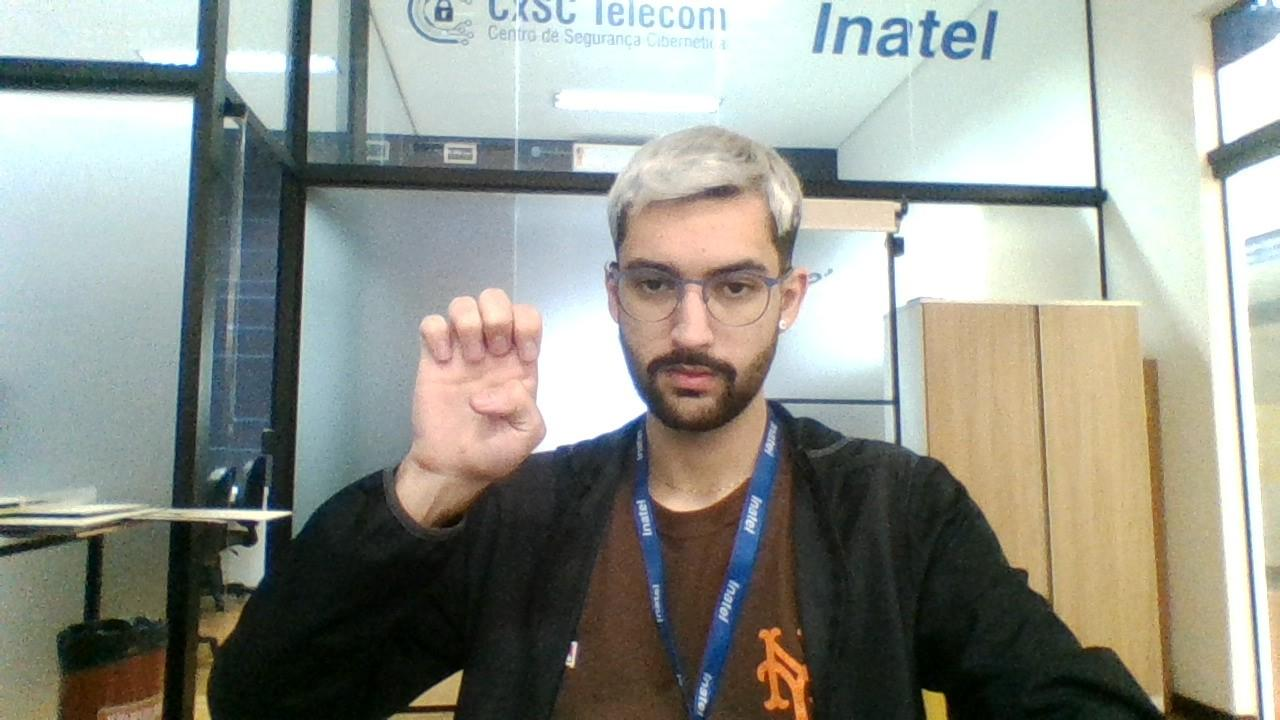E: (410, 280, 552, 492)
